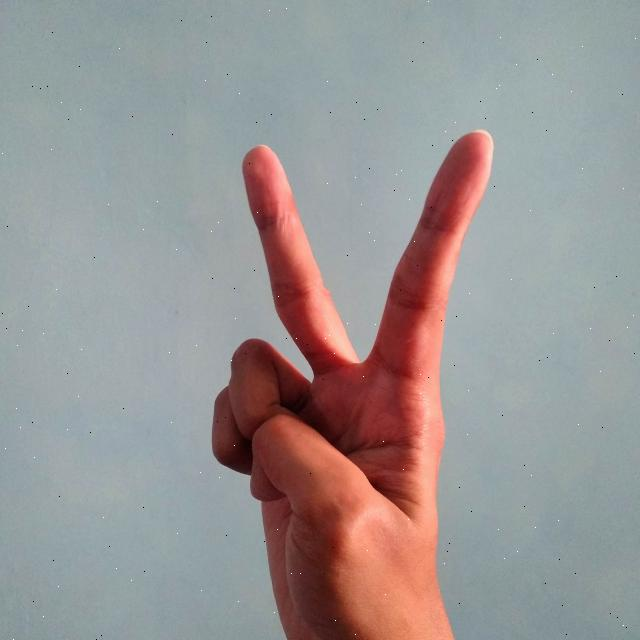V: (203, 119, 498, 640)
